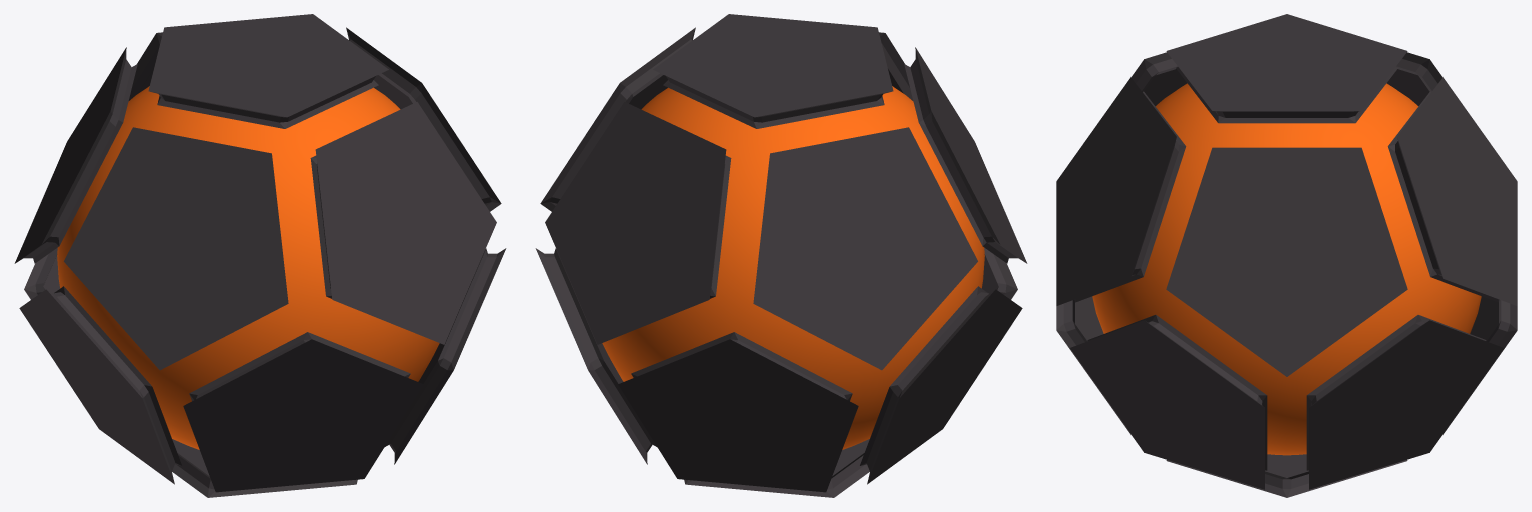
The model's file is Ball_04.fbx.
3 renders of one model, left to right at view 1: azimuth 30°, elevation 25°; view 2: azimuth 150°, elevation 25°; view 3: azimuth 270°, elevation 25°, orthographic.
Parts seen in each view (by area): view 1: Ball_04_VolcanoHeart_Body; view 2: Ball_04_VolcanoHeart_Body; view 3: Ball_04_VolcanoHeart_Body.
Part boxes in pixels (x1,y1,x2,y2): Ball_04_VolcanoHeart_Body: [14, 14, 506, 497]; Ball_04_VolcanoHeart_Body: [535, 14, 1027, 497]; Ball_04_VolcanoHeart_Body: [1056, 14, 1517, 497].
Bounding box in the file's own units: 243 × 208 × 231.
Materials: 1 (1 with a texture image).
